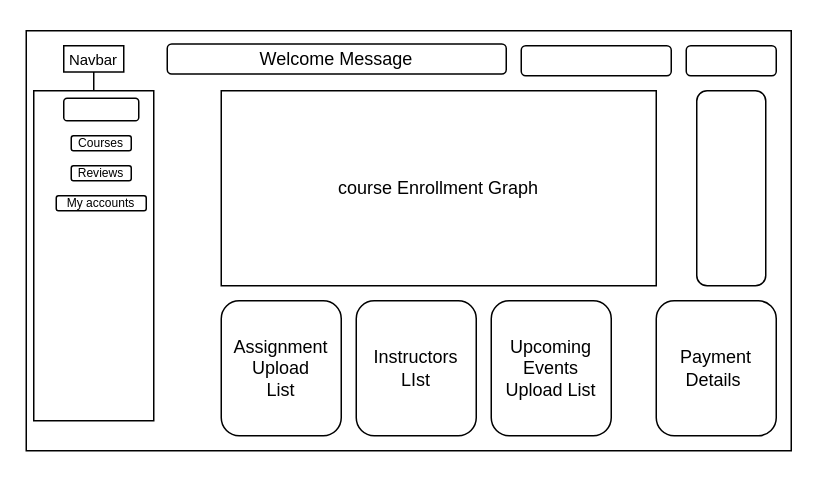
Image size: 818x479. Some labels were removed from this diagram. Each missing label, with the centre of its shape:
Add New Course: point 595,60
Completed Course List: point 730,187
DashBoard: point 100,109
Profile: point 730,60
